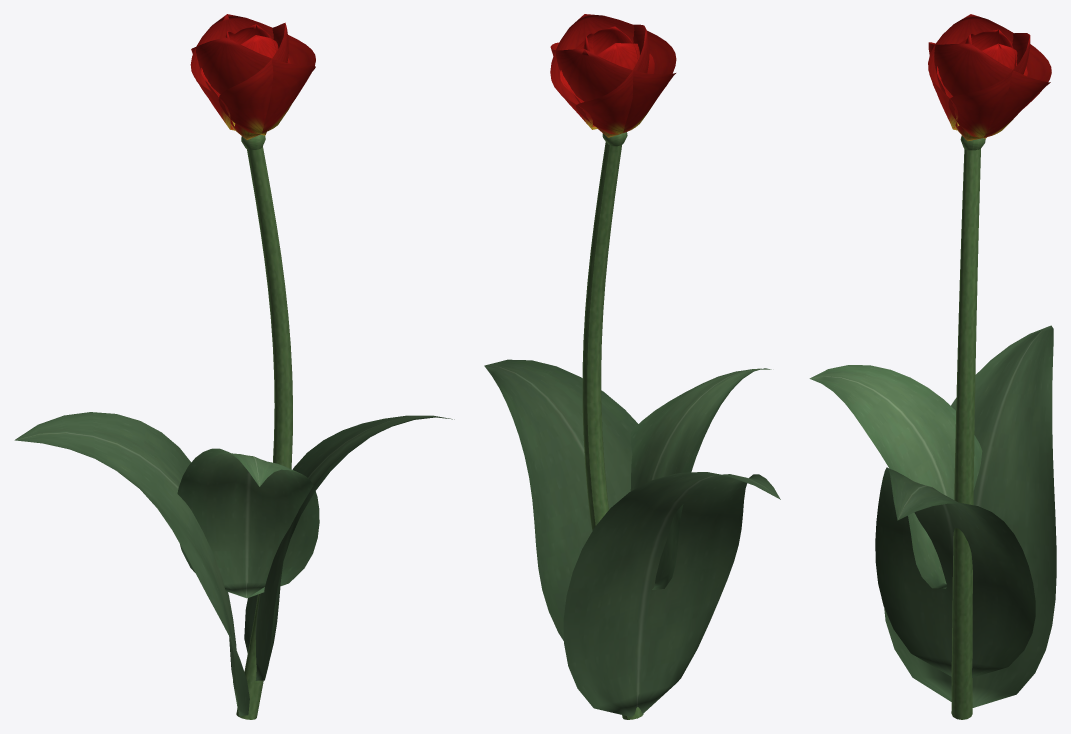
File: fl-tulip.glb
The picture shows the model from 3 angles, left to right: view 1: azimuth 30°, elevation 25°; view 2: azimuth 150°, elevation 25°; view 3: azimuth 270°, elevation 25°; orthographic projection. The views are drawn at different scales.
Parts seen in each view (by area): view 1: tulip_tulip_leaf, tulip_tulip_petal, tulip_tulip_stem; view 2: tulip_tulip_leaf, tulip_tulip_petal, tulip_tulip_stem; view 3: tulip_tulip_leaf, tulip_tulip_stem, tulip_tulip_petal.
Part boxes in pixels (x1,y1,x2,y2): tulip_tulip_leaf: (14, 412, 454, 716); tulip_tulip_petal: (190, 14, 315, 139); tulip_tulip_stem: (236, 134, 292, 719); tulip_tulip_leaf: (484, 359, 780, 718); tulip_tulip_petal: (550, 14, 676, 137); tulip_tulip_stem: (582, 132, 643, 719); tulip_tulip_leaf: (809, 325, 1056, 707); tulip_tulip_stem: (951, 135, 985, 719); tulip_tulip_petal: (928, 14, 1051, 141).
Bounding box in the file's own units: 0.2222 × 0.3952 × 0.1278.
Materials: 3 (3 with a texture image).
